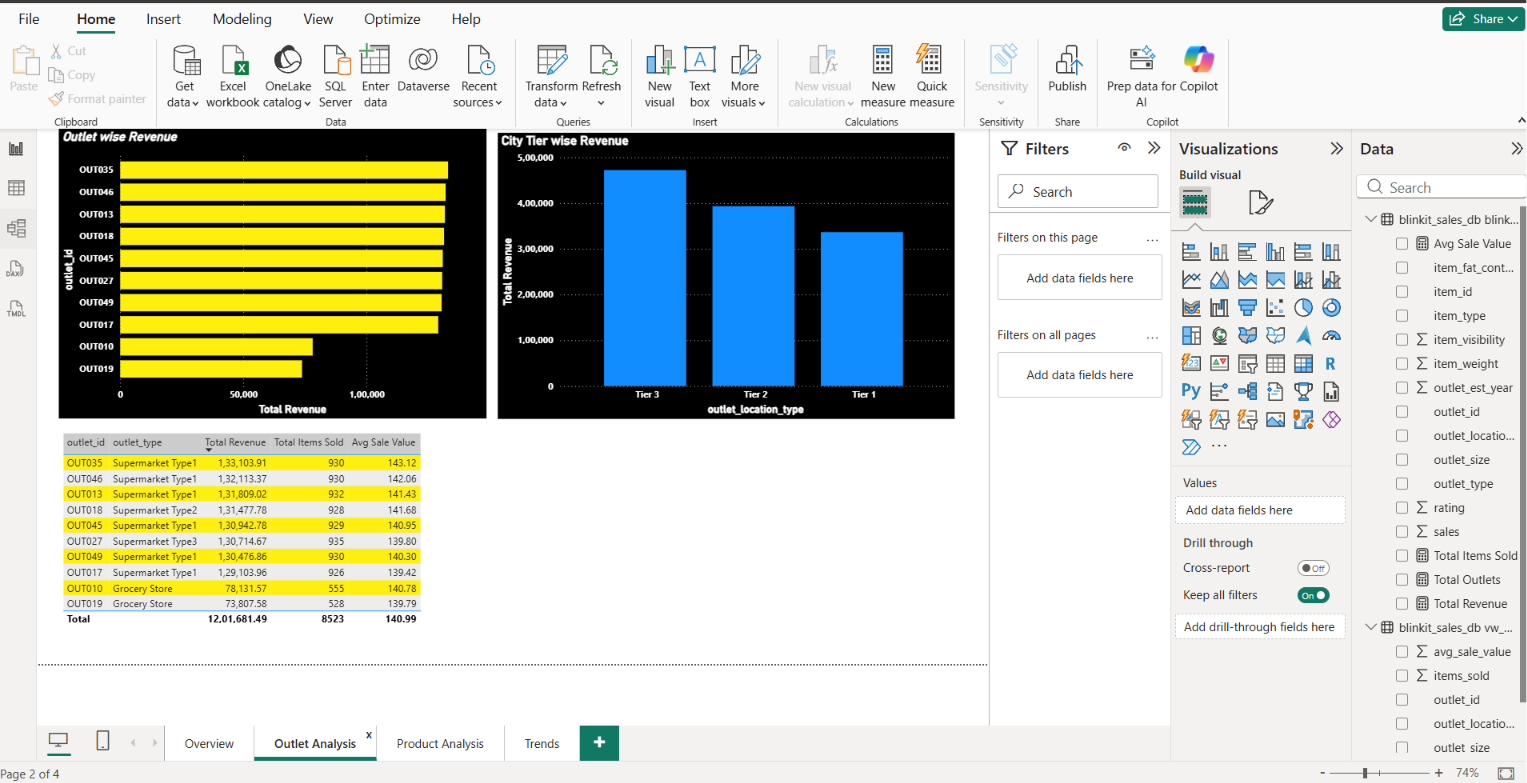

Layout of this report page (visuals, bound fields, positions):
{"tool":"powerbi","page":{"name":"Outlet Analysis","canvas":[1280,720],"ordinal":1},"visuals":[{"type":"clusteredBarChart","title":"Outlet wise Revenue ","fields":{"Category":["blinkit_sales_db blinkit_cleaned.outlet_id"],"Y":["blinkit_sales_db blinkit_cleaned.Total Revenue"]},"box":[29.6,0,575.6,390],"z":0},{"type":"clusteredColumnChart","title":"City Tier wise Revenue ","fields":{"Category":["blinkit_sales_db blinkit_cleaned.outlet_location_type"],"Y":["blinkit_sales_db blinkit_cleaned.Total Revenue"]},"box":[620,5.4,614.6,384.6],"z":1000},{"type":"tableEx","fields":{"Values":["blinkit_sales_db blinkit_cleaned.outlet_id","blinkit_sales_db blinkit_cleaned.outlet_type","blinkit_sales_db blinkit_cleaned.Total Revenue","blinkit_sales_db blinkit_cleaned.Total Items Sold","blinkit_sales_db blinkit_cleaned.Avg Sale Value"]},"box":[29.6,404.8,536.6,281.1],"z":2000}]}

Visuals, with their boxes on the page's 1280x720 design canvas (x1, y1, x2, y2). These are canvas units, not pixel positions in the 1527x783 screenshot, which may show the page scaled, cropped or inside an application window:
"Outlet wise Revenue " clusteredBarChart: 30 0 605 390
"City Tier wise Revenue " clusteredColumnChart: 620 5 1235 390
tableEx - blinkit_sales_db blinkit_cleaned.outlet_id x blinkit_sales_db blinkit_cleaned.outlet_type: 30 405 566 686
